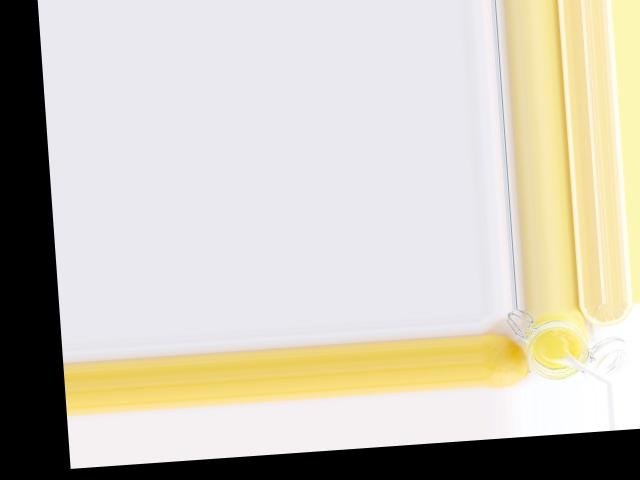lemon: (481, 331, 532, 387)
